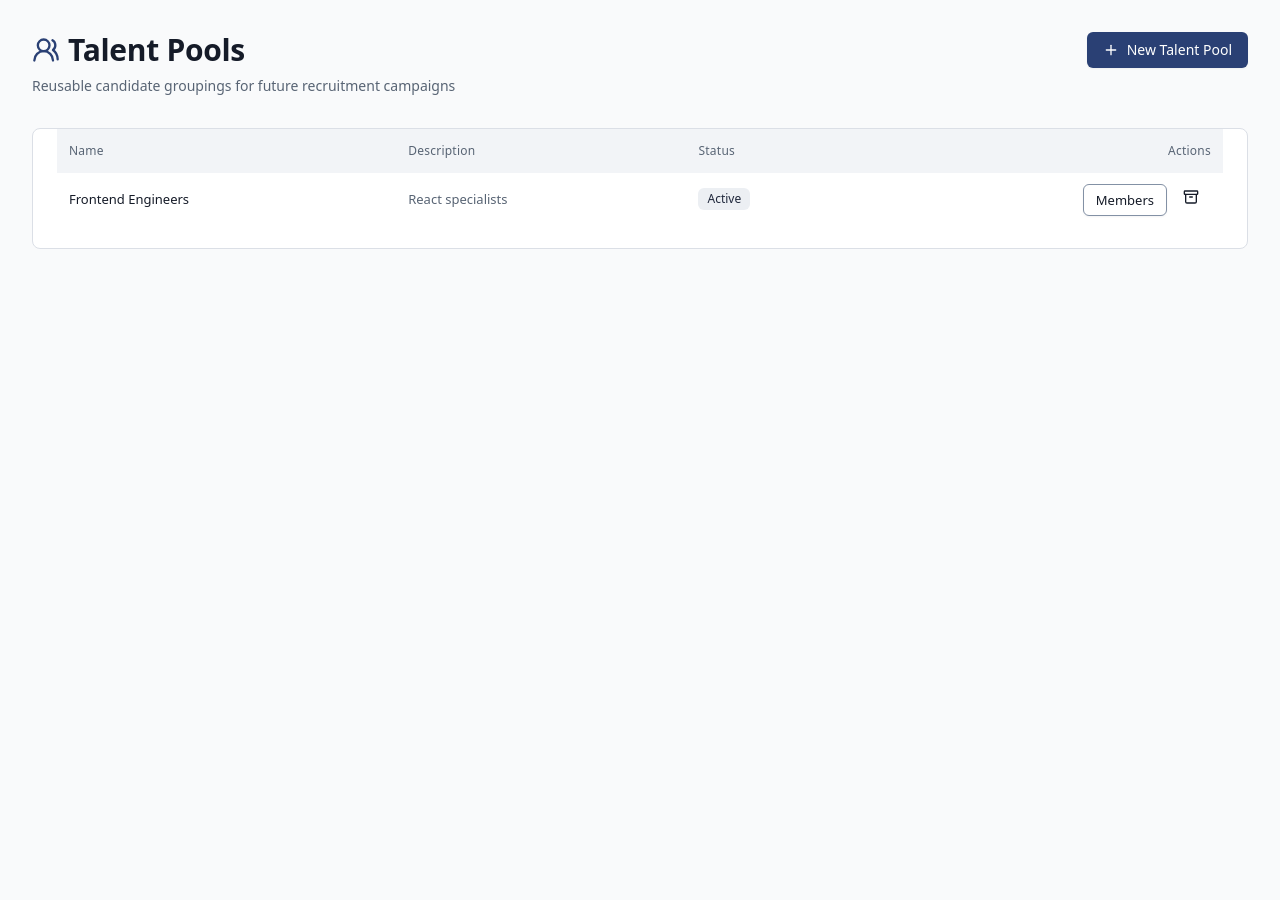
Talent Pools list page › shows an empty state in the members dialog when the pool has no members
The width and height of the screenshot is (1280, 900).
What coordinates should you click on to do the following:
click the button with test id "button-manage-members-1"
I would click on:
 (1125, 200)
Its box is [1083,184,1167,216].
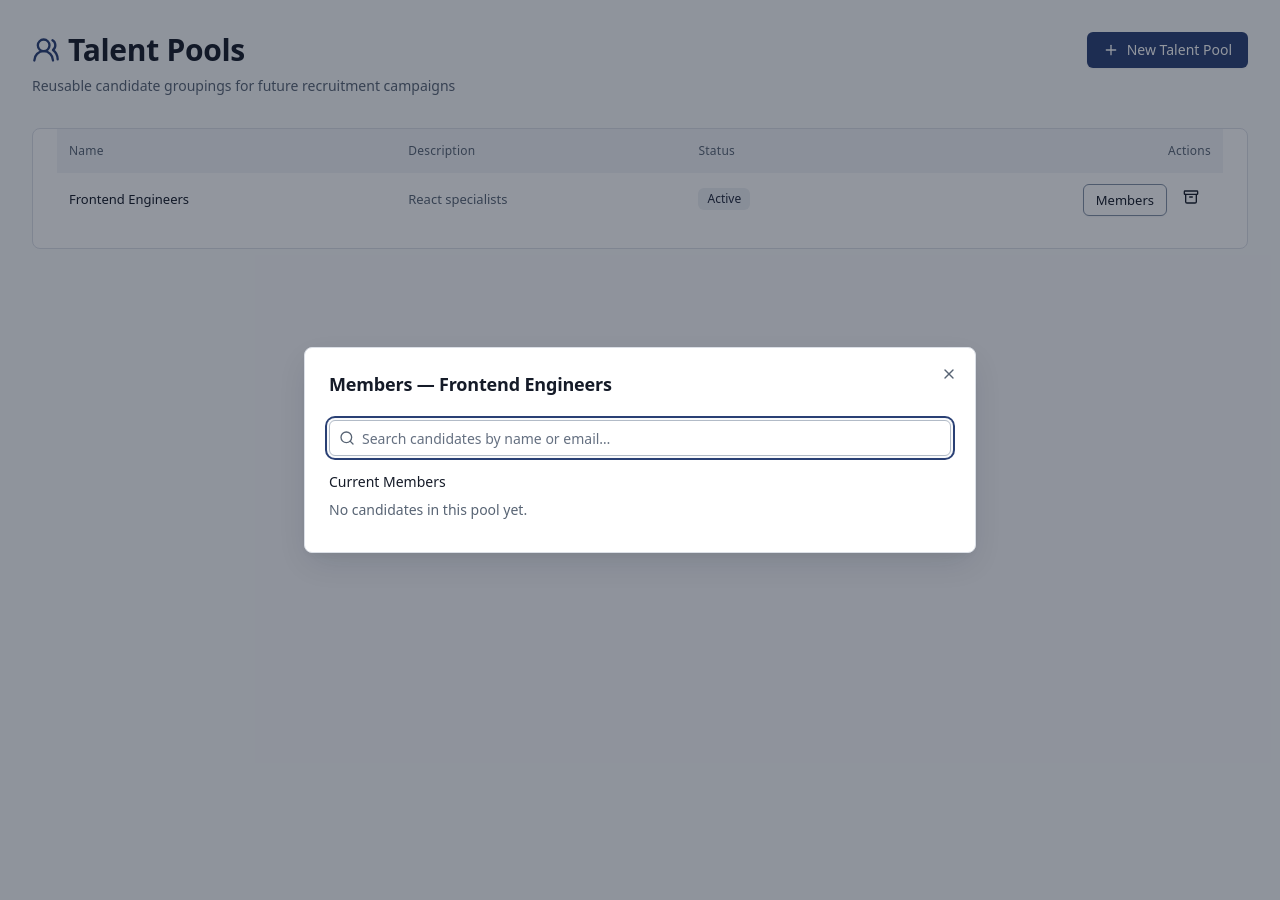
Expected: the text "No candidates in this pool yet." is shown, [329,500,527,519]
